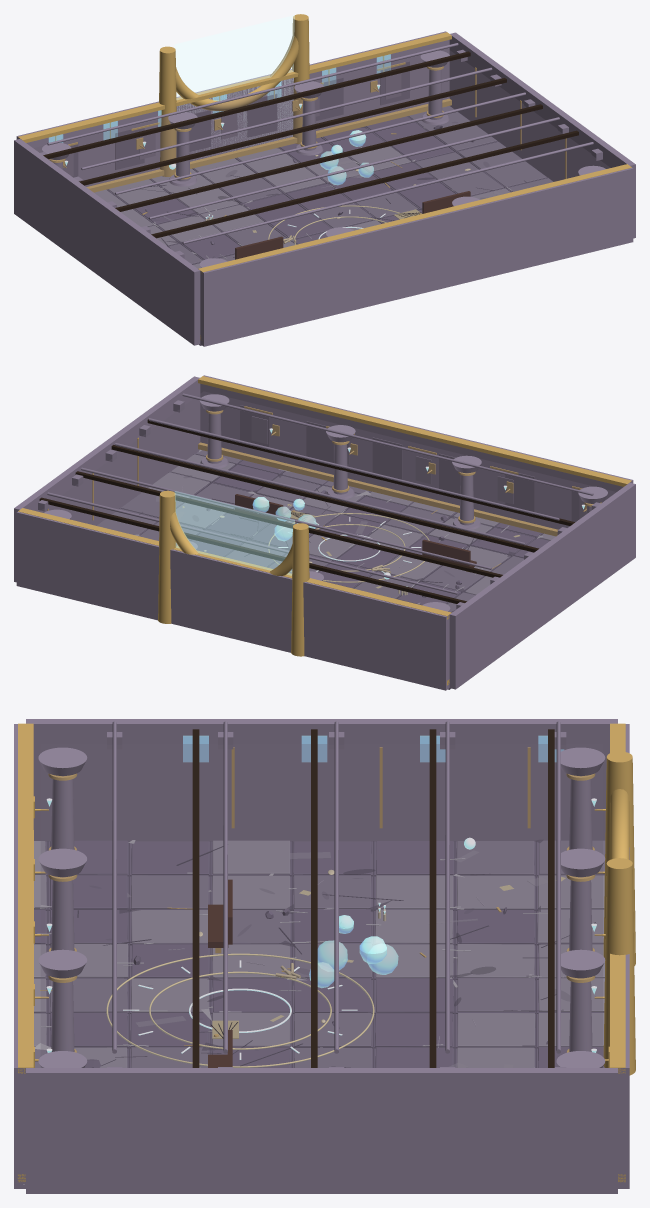
Rendered from atrium.high.glb.
3 views of the same model, one above another, from view 1: azimuth 30°, elevation 25°; view 2: azimuth 150°, elevation 25°; view 3: azimuth 270°, elevation 25° (orthographic). The views are drawn at different scales.
Visible parts, largest first — view 1: ceiling_shadow_occlusion_panel, south_authored_wall, individual_settled_beveled_floor_tile (×32), west_authored_wall, dark_oak_ceiling_crossbeam (×4), north_authored_wall, east_authored_wall, upper_vault_stone_rib_crosswise (×5), portal_glow_veil, wall_recess_panel_n (×5), north_crown_trim, north_base_trim (+7 smaller); view 2: ceiling_shadow_occlusion_panel, north_authored_wall, individual_settled_beveled_floor_tile (×28), west_authored_wall, south_authored_wall, east_authored_wall, dark_oak_ceiling_crossbeam (×4), upper_vault_stone_rib_crosswise (×5), portal_glow_veil, wall_recess_panel_s (×5), south_crown_trim, south_base_trim (+7 smaller); view 3: ceiling_shadow_occlusion_panel, individual_settled_beveled_floor_tile (×48), east_authored_wall, west_authored_wall, dark_oak_ceiling_crossbeam (×4), authored_column_shaft (×6), upper_vault_stone_rib_crosswise (×5), authored_column_capital (×8), authored_floor_slab, south_crown_trim, portal_right_pillar, south_authored_wall (+6 smaller).
Part boxes in pixels (x1,y1,x2,y2): ceiling_shadow_occlusion_panel: (34, 48, 609, 268); south_authored_wall: (200, 168, 633, 346); individual_settled_beveled_floor_tile (×32): (108, 106, 546, 259); west_authored_wall: (14, 139, 200, 345); dark_oak_ceiling_crossbeam (×4): (43, 51, 578, 238); north_authored_wall: (16, 31, 449, 186); east_authored_wall: (449, 32, 635, 238); upper_vault_stone_rib_crosswise (×5): (47, 43, 593, 244); portal_glow_veil: (175, 15, 294, 145); wall_recess_panel_n (×5): (115, 61, 409, 169); north_crown_trim: (18, 32, 451, 142); north_base_trim: (86, 98, 451, 192); ceiling_shadow_occlusion_panel: (40, 392, 615, 612); north_authored_wall: (16, 511, 449, 690); individual_settled_beveled_floor_tile (×28): (96, 454, 534, 605); west_authored_wall: (449, 482, 635, 689); south_authored_wall: (200, 375, 633, 529); east_authored_wall: (14, 376, 200, 582); dark_oak_ceiling_crossbeam (×4): (39, 419, 574, 603); upper_vault_stone_rib_crosswise (×5): (47, 393, 593, 594); portal_glow_veil: (175, 491, 294, 575); wall_recess_panel_s (×5): (240, 405, 534, 512); south_crown_trim: (198, 376, 631, 486); south_base_trim: (198, 442, 558, 536); ceiling_shadow_occlusion_panel: (41, 744, 602, 1067); individual_settled_beveled_floor_tile (×48): (50, 840, 605, 1067); east_authored_wall: (26, 1068, 617, 1193); west_authored_wall: (26, 719, 617, 841); dark_oak_ceiling_crossbeam (×4): (192, 729, 554, 1067); authored_column_shaft (×6): (51, 776, 592, 1051); upper_vault_stone_rib_crosswise (×5): (112, 721, 560, 1053); authored_column_capital (×8): (38, 747, 605, 1067); authored_floor_slab: (34, 841, 604, 1067); south_crown_trim: (18, 723, 33, 1073); portal_right_pillar: (603, 858, 635, 1075); south_authored_wall: (14, 724, 25, 1188).
Size of what is drawn, in the model's own units: 22.64 by 6.47 by 16.81.
